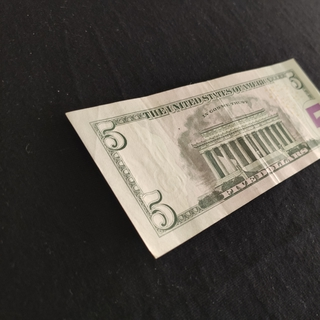5USDBack: (65, 57, 320, 259)
